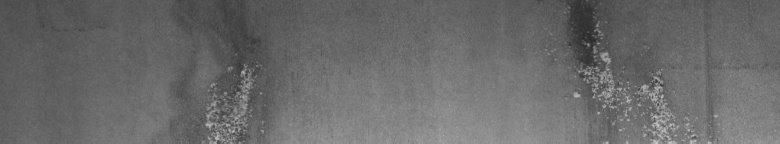hc: (545, 6, 718, 136)
